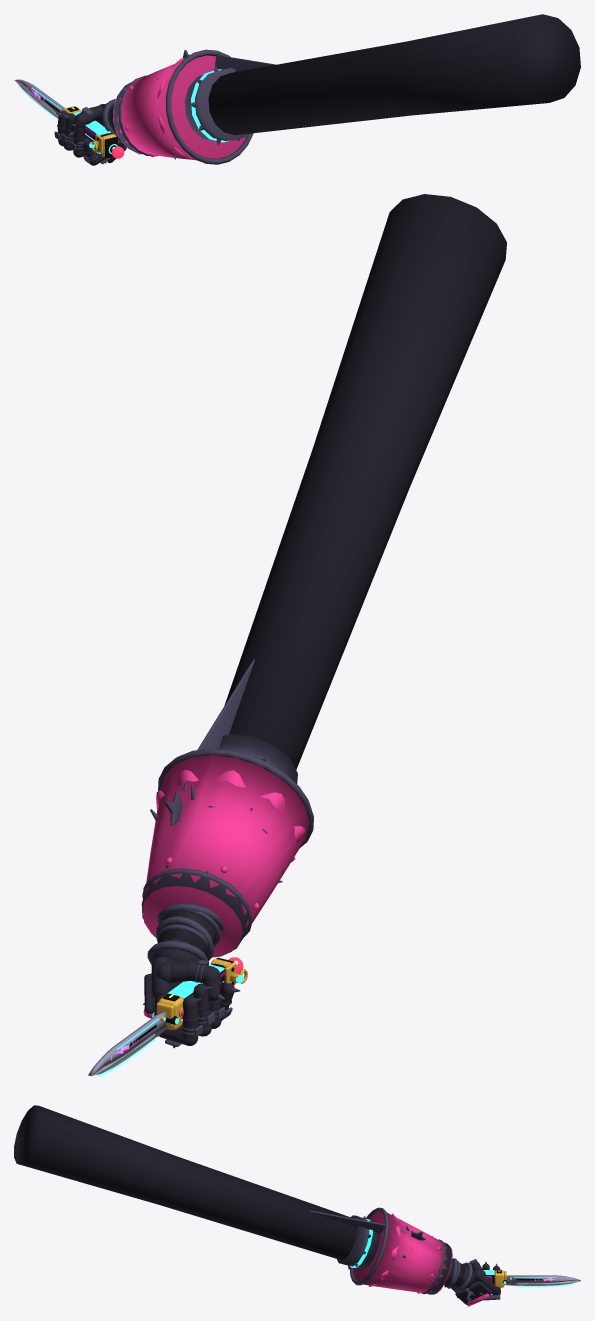
File: glow_blade.glb
3 views of the same model, one above another, from view 1: azimuth 30°, elevation 25°; view 2: azimuth 150°, elevation 25°; view 3: azimuth 270°, elevation 25° (orthographic). The views are drawn at different scales.
Parts seen in each view (by area): view 1: ArmR, ArmRKitBell, Shell, Blade, ArmRKitFins, ArmRKitGauntlet, ArmRKitWraps, ArmRKitFrill; view 2: ArmR, ArmRKitBell, Shell, ArmRKitWraps, Blade, ArmRKitGauntlet, ArmRKitFins, ArmRKitFrill; view 3: ArmR, ArmRKitBell, Blade, ArmRKitFins, ArmRHandKitMitten, ArmRKitGauntlet, ArmRKitWraps, Shell, ArmRHand.
Part boxes in pixels (x1,y1,x2,y2): ArmR: (103, 14, 580, 142); ArmRKitBell: (113, 49, 253, 164); Shell: (62, 106, 124, 158); Blade: (14, 79, 64, 118); ArmRKitFins: (215, 55, 275, 71); ArmRKitGauntlet: (113, 82, 154, 156); ArmRKitWraps: (102, 99, 119, 137); ArmRKitFrill: (147, 58, 199, 161); ArmR: (153, 194, 506, 962); ArmRKitBell: (142, 748, 313, 957); Shell: (152, 957, 247, 1029); ArmRKitWraps: (147, 903, 223, 965); Blade: (88, 1011, 167, 1076); ArmRKitGauntlet: (141, 857, 259, 949); ArmRKitFins: (183, 658, 254, 790); ArmRKitFrill: (156, 769, 305, 873); ArmR: (14, 1105, 473, 1289); ArmRKitBell: (349, 1207, 452, 1294); Blade: (506, 1275, 580, 1286); ArmRKitFins: (310, 1210, 404, 1233); ArmRHandKitMitten: (455, 1281, 492, 1306); ArmRKitGauntlet: (417, 1236, 451, 1294); ArmRKitWraps: (446, 1258, 472, 1291); Shell: (444, 1270, 506, 1287); ArmRHand: (451, 1269, 499, 1294).
Bounding box in the file's own units: 0.4627 × 0.7555 × 1.63.
